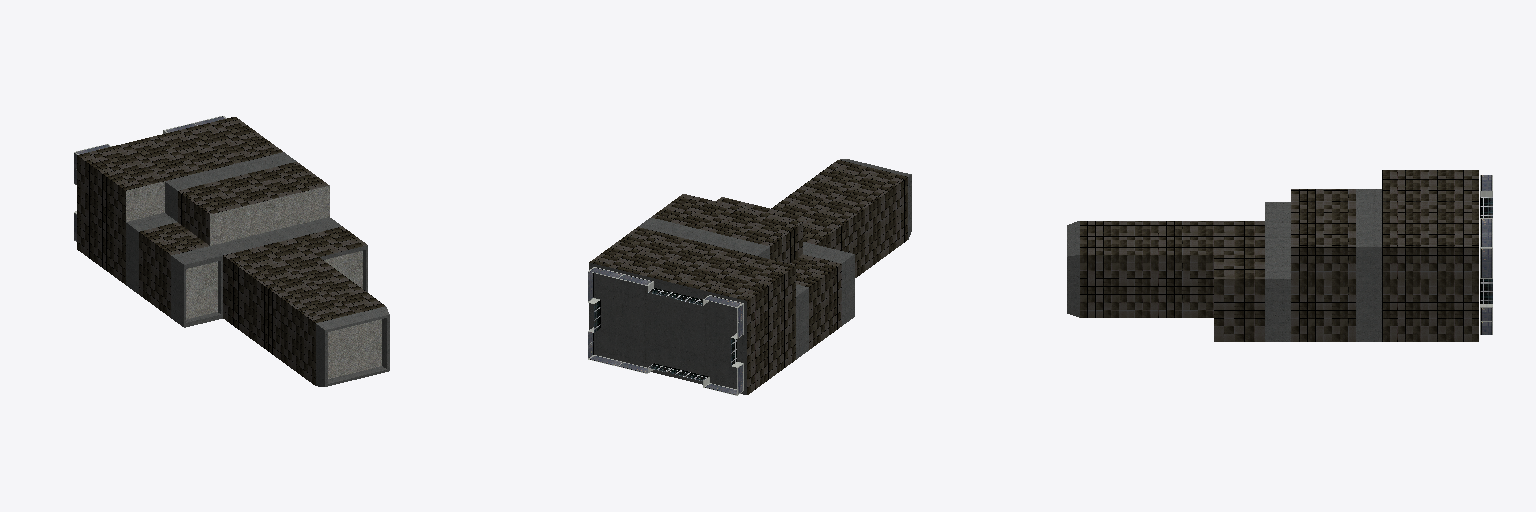
3 renders of one model, left to right at view 1: azimuth 30°, elevation 25°; view 2: azimuth 150°, elevation 25°; view 3: azimuth 270°, elevation 25°, orthographic.
Parts seen in each view (by area): view 1: Object101; view 2: Object101; view 3: Object101.
Boxes of the visible parts, x1=… form: Object101: x1=74, y1=116, x2=389, y2=386; Object101: x1=588, y1=159, x2=911, y2=395; Object101: x1=1067, y1=170, x2=1492, y2=341.
Bounding box in the file's own units: 84.23 × 48 × 196.
Materials: 5 (5 with a texture image).